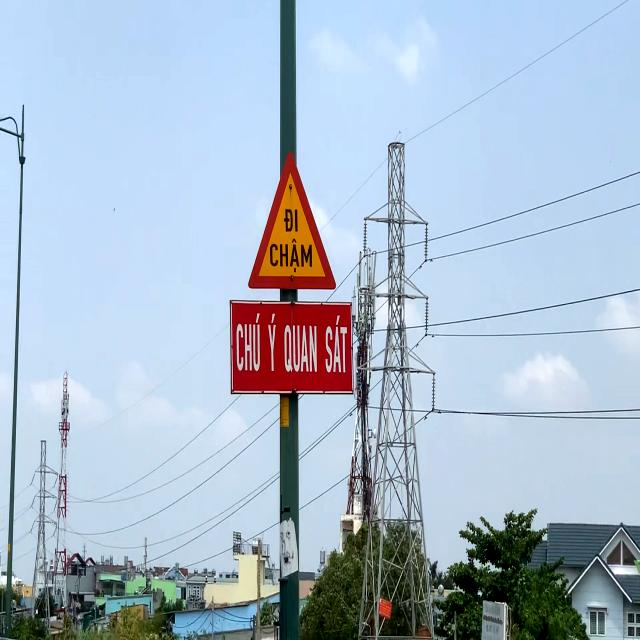W.245a: (243, 149, 341, 294)
